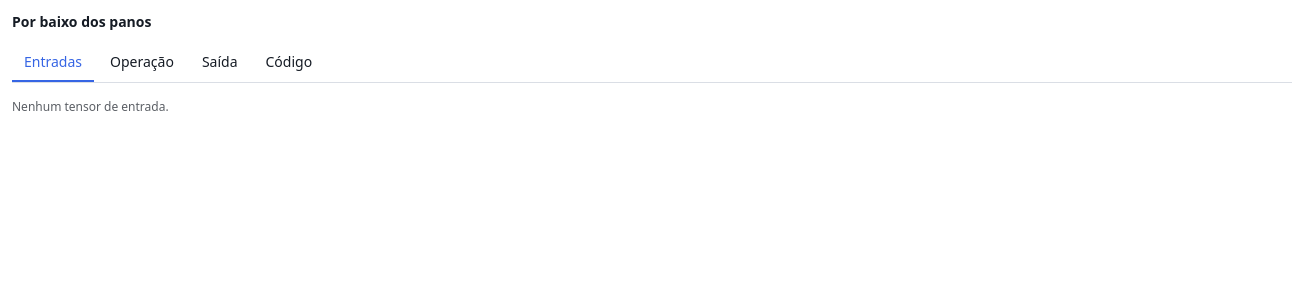
UnderTheHoodPanelComponent › falls back to generated code when the lab published none
Step 1. Click the tab with id "app-tab-code" → (289, 63), box left=254, top=44, right=324, bottom=82
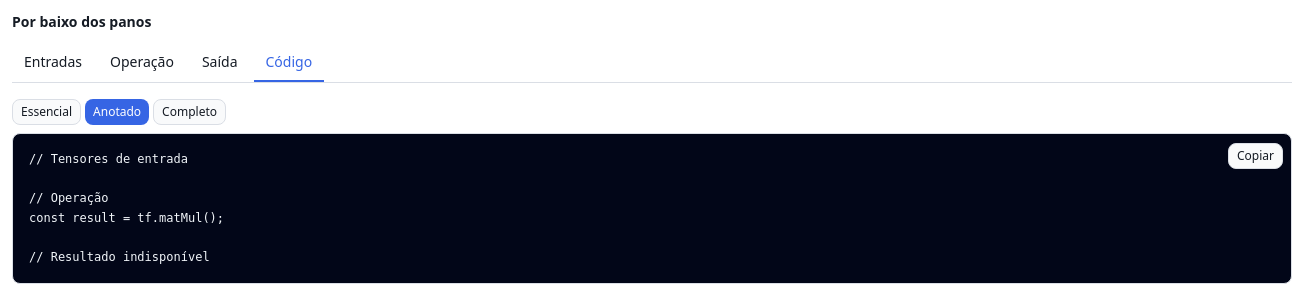
Now the text "const result = tf.matMul" is shown, box left=29, top=152, right=224, bottom=264
